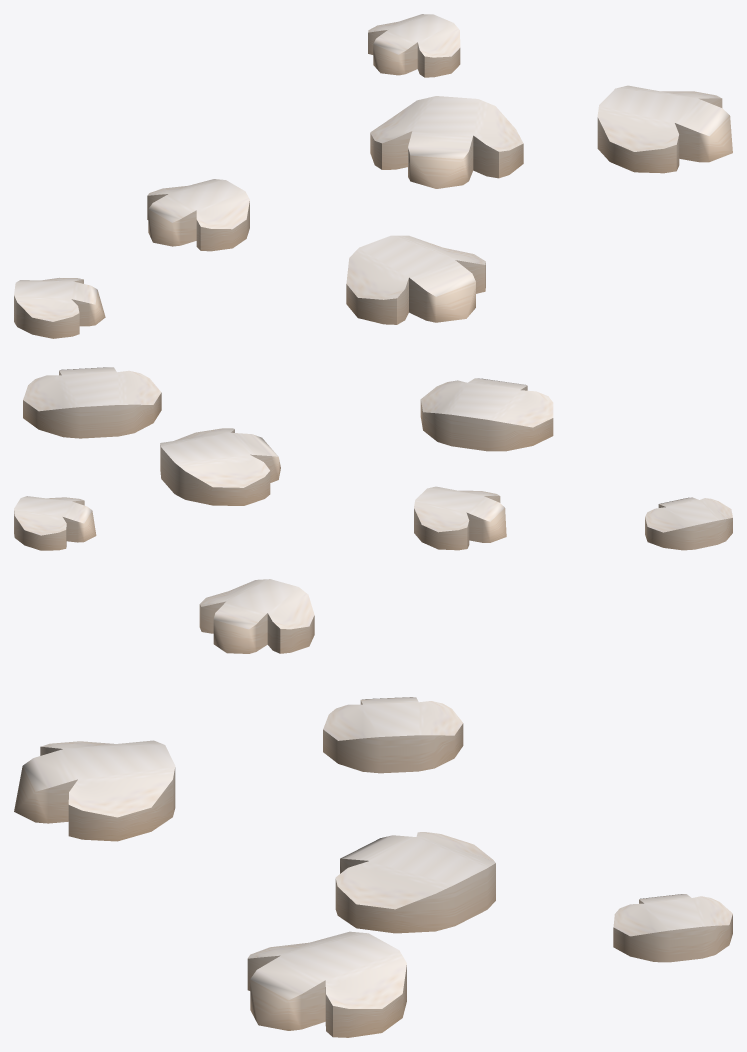
Rendered from food_ingredient_mushroom_pieces.gltf.
3 views of the same model, one above another, from view 1: azimuth 30°, elevation 25°; view 2: azimuth 150°, elevation 25°; view 3: azimuth 270°, elevation 25° (orthographic). The views are drawn at different scales.
Visible parts, largest first — view 1: food_ingredient_mushroom_pieces; view 2: food_ingredient_mushroom_pieces; view 3: food_ingredient_mushroom_pieces.
Boxes of the visible parts, left/top/right/bottom form: food_ingredient_mushroom_pieces: left=14, top=14, right=732, bottom=338; food_ingredient_mushroom_pieces: left=14, top=367, right=732, bottom=550; food_ingredient_mushroom_pieces: left=14, top=579, right=732, bottom=1037.
Size of the model in its own units: 1.29 by 0.0588 by 0.9209.
1 material, 1 textured.
